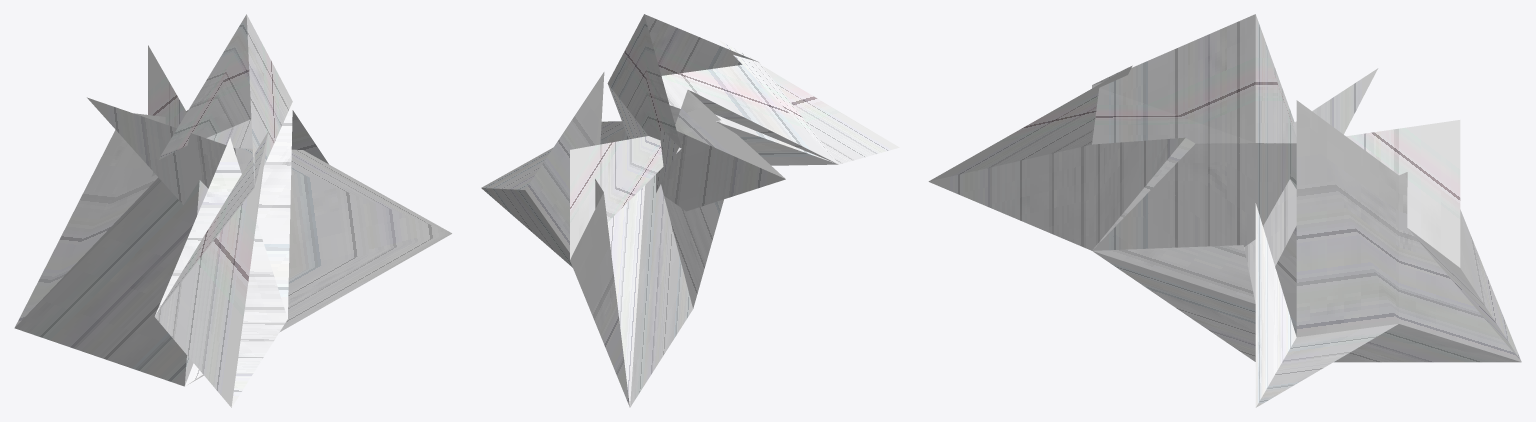
The model's file is crumbled_paper.gltf.
3 renders of one model, left to right at view 1: azimuth 30°, elevation 25°; view 2: azimuth 150°, elevation 25°; view 3: azimuth 270°, elevation 25°, orthographic. The views are drawn at different scales.
Parts seen in each view (by area): view 1: plane; view 2: plane; view 3: plane.
Part boxes in pixels (bbox=[...]): plane: bbox=[14, 14, 451, 407]; plane: bbox=[481, 14, 899, 407]; plane: bbox=[928, 14, 1521, 407].
Size of the model in its own units: 0.7033 by 0.6804 by 0.9062.
1 material, 1 textured.
